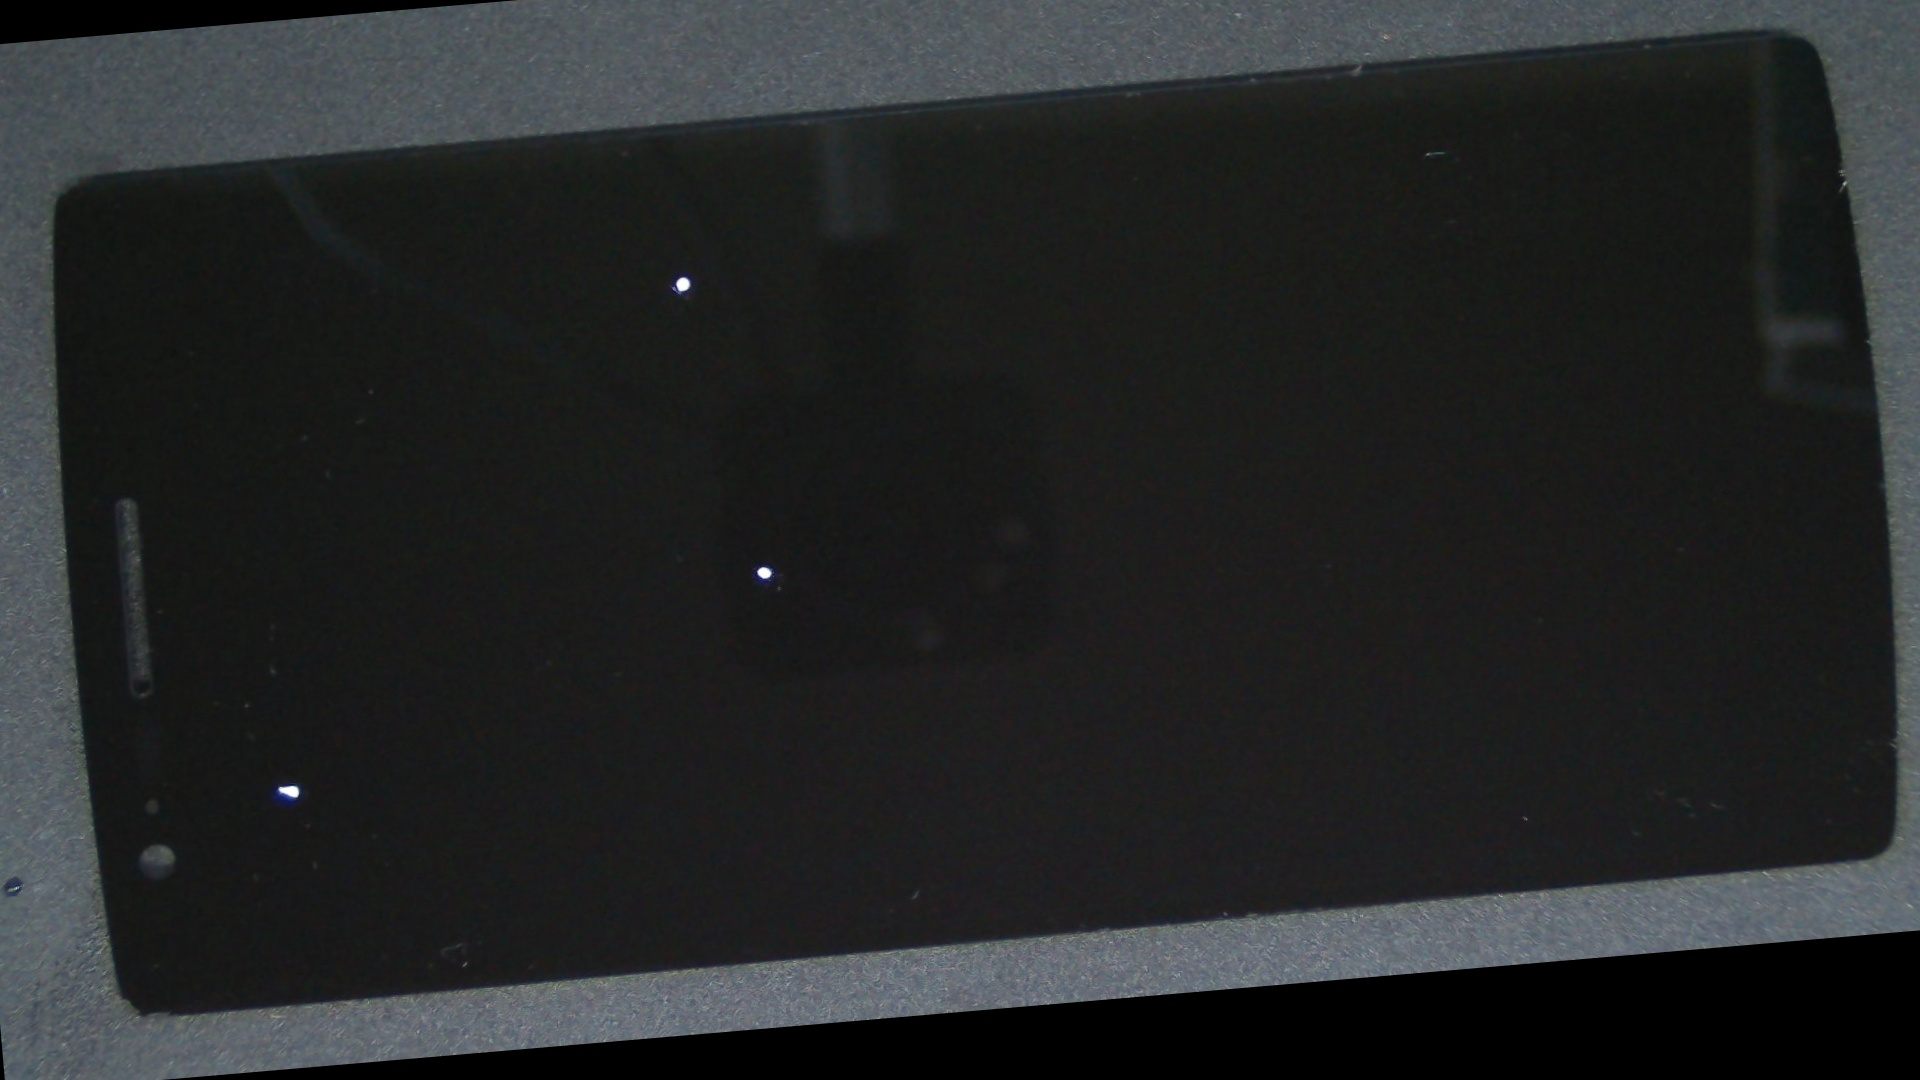oil: (340, 239, 1178, 891), (299, 100, 1058, 452), (105, 390, 472, 1080)
